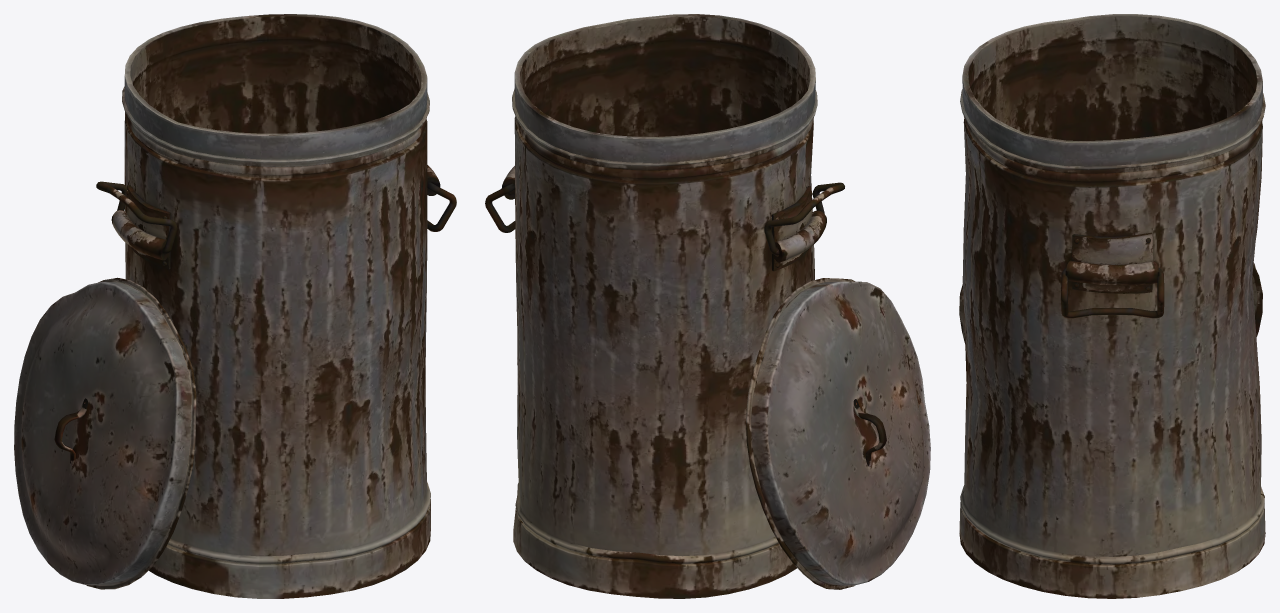
The model's file is trash_can.glb.
The picture shows the model from 3 angles, left to right: view 1: azimuth 30°, elevation 25°; view 2: azimuth 150°, elevation 25°; view 3: azimuth 270°, elevation 25°; orthographic projection.
Visible parts, largest first — view 1: metal_trash_can_rust; view 2: metal_trash_can_rust; view 3: metal_trash_can_rust.
Part boxes in pixels (x1,y1,x2,y2): metal_trash_can_rust: [14, 14, 456, 598]; metal_trash_can_rust: [485, 14, 930, 598]; metal_trash_can_rust: [959, 14, 1265, 598].
Bounding box in the file's own units: 0.7733 × 0.9062 × 0.5491.
Materials: 1 (1 with a texture image).
